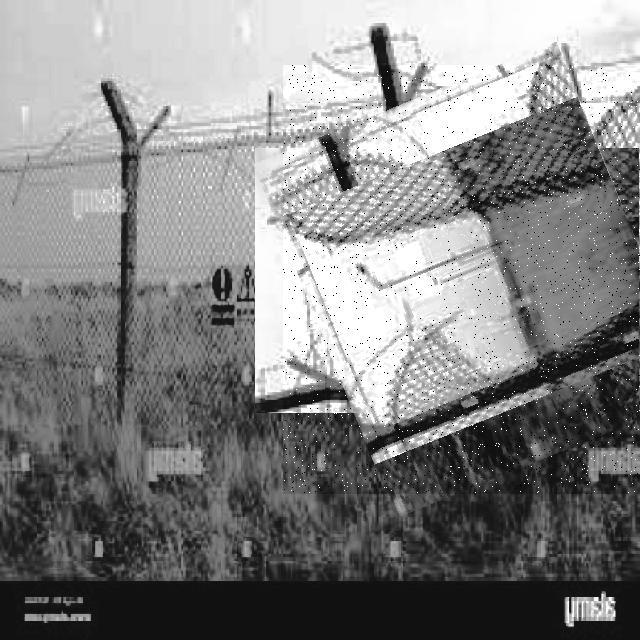anomaly-fence: (283, 65, 640, 494)
